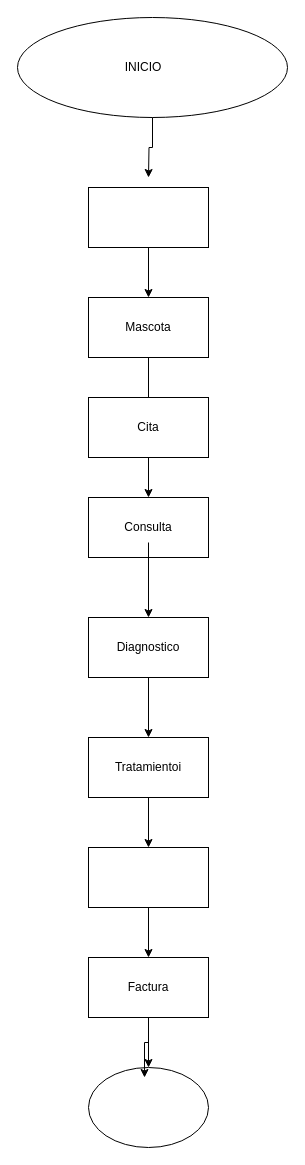
Image size: 305x1165. Some labels were removed from this diagram. Here are the shapes that lost their labels. From the top down, the box of each, then its label:
(88, 186, 208, 248): Propietario
(88, 846, 208, 908): Vacunas
(88, 1066, 208, 1148): Fin
